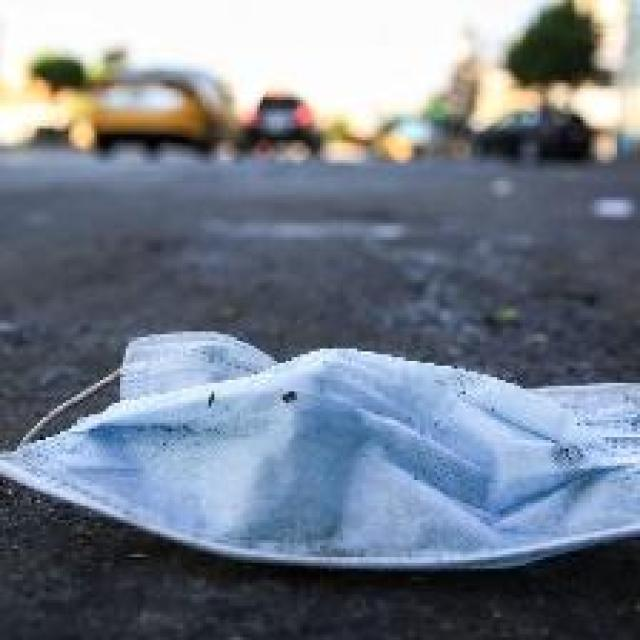Mask: (0, 284, 640, 590)
